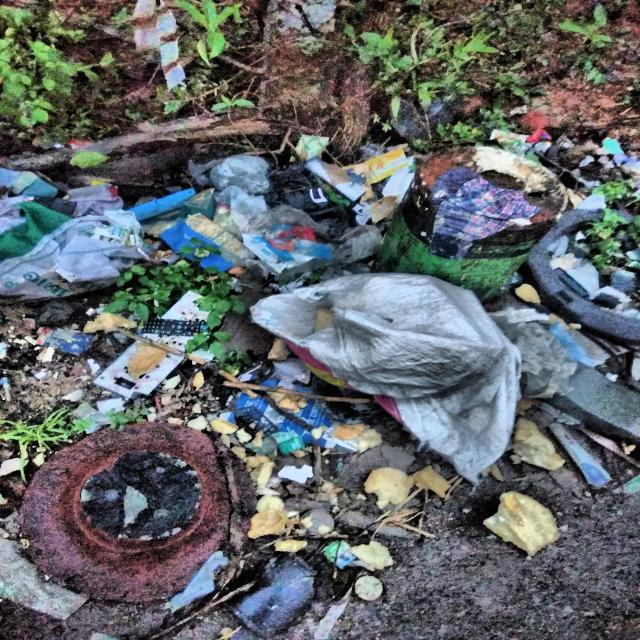anorganik: (258, 276, 522, 477), (18, 426, 259, 605), (524, 204, 640, 342), (0, 217, 159, 302)
